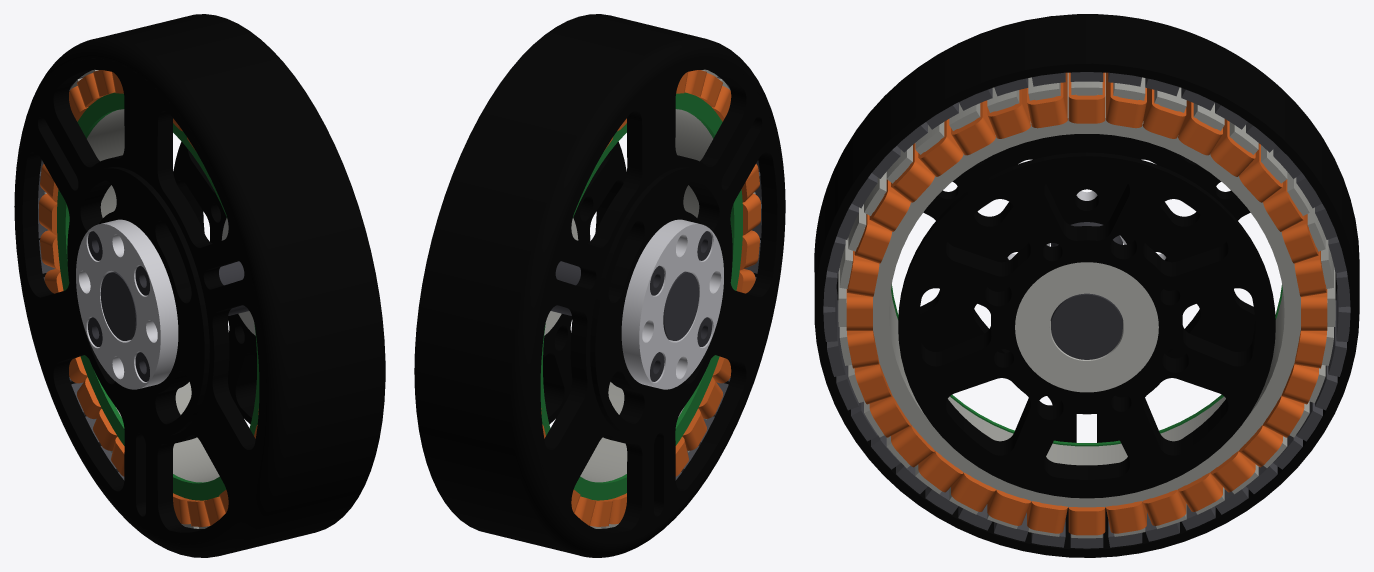
Rendered from assembly.glb.
3 views of the same model, side by side, from view 1: azimuth 30°, elevation 25°; view 2: azimuth 150°, elevation 25°; view 3: azimuth 270°, elevation 25° (orthographic). The views are drawn at different scales.
Parts seen in each view (by area): view 1: bell-skirt, bell-face, bell-hub-boss, prop-adapter, stator-plate-neck, pcb-insulator, stator-lamination, shaft, stator-coil-27, stator-coil-23, stator-coil-22, stator-coil-28 (+2 smaller); view 2: bell-skirt, bell-face, bell-hub-boss, prop-adapter, stator-plate-neck, pcb-insulator, stator-lamination, shaft, stator-coil-11, stator-coil-15, stator-coil-16, stator-coil-10 (+2 smaller); view 3: stator-plate, bell-skirt, stator-lamination, bell-face, bearing-tube, stator-plate-neck, shaft, stator-coil-36, stator-coil-2, stator-coil-35, stator-coil-3, stator-coil-1 (+32 smaller).
Boxes of the visible parts, x1,y1,x2,y2 form: bell-skirt: (14, 14, 385, 557); bell-face: (17, 58, 265, 543); bell-hub-boss: (67, 167, 209, 436); prop-adapter: (76, 219, 178, 389); stator-plate-neck: (173, 141, 256, 424); pcb-insulator: (57, 92, 259, 500); stator-lamination: (44, 69, 219, 528); shaft: (100, 261, 248, 340); stator-coil-27: (40, 230, 60, 270); stator-coil-23: (77, 377, 101, 418); stator-coil-22: (93, 409, 117, 450); stator-coil-28: (39, 193, 57, 235); bell-skirt: (414, 14, 785, 557); bell-face: (534, 58, 783, 543); bell-hub-boss: (590, 167, 732, 436); prop-adapter: (621, 219, 723, 389); stator-plate-neck: (543, 141, 626, 424); pcb-insulator: (540, 92, 742, 500); stator-lamination: (580, 69, 755, 528); shaft: (551, 261, 699, 340); stator-coil-11: (740, 230, 759, 270); stator-coil-15: (698, 377, 723, 418); stator-coil-16: (682, 408, 706, 450); stator-coil-10: (742, 193, 760, 235); stator-plate: (898, 152, 1275, 498); bell-skirt: (814, 14, 1359, 557); stator-lamination: (838, 72, 1335, 538); bell-face: (836, 134, 1337, 442); bearing-tube: (1015, 262, 1158, 392); stator-plate-neck: (918, 184, 1255, 475); shaft: (1051, 222, 1122, 359); stator-coil-36: (1106, 72, 1146, 128); stator-coil-2: (1027, 72, 1067, 128); stator-coil-35: (1142, 88, 1186, 138); stator-coil-3: (987, 88, 1030, 138); stator-coil-1: (1068, 72, 1105, 123).
Size of the model in its own units: 0.033 by 0.091 by 0.091.
